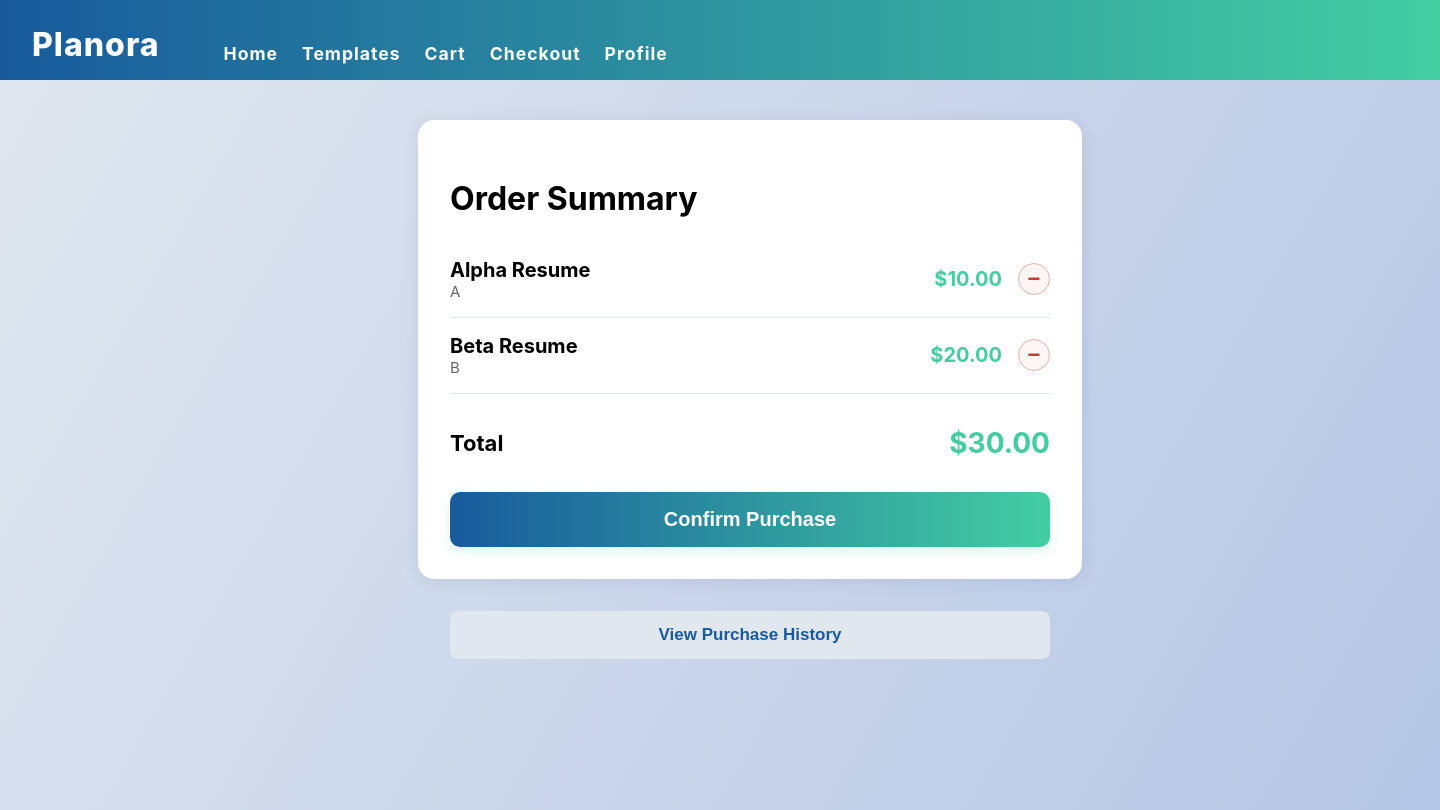
Test: minus removes only that item from the order
Expected: the text "Alpha Resume" is shown, x1=450 y1=258 x2=590 y2=282
Expected: the text "Beta Resume" is shown, x1=450 y1=334 x2=578 y2=358
Click the button named "Remove Alpha Resume from this order" at (1034, 279), box x1=1018 y1=263 x2=1050 y2=295
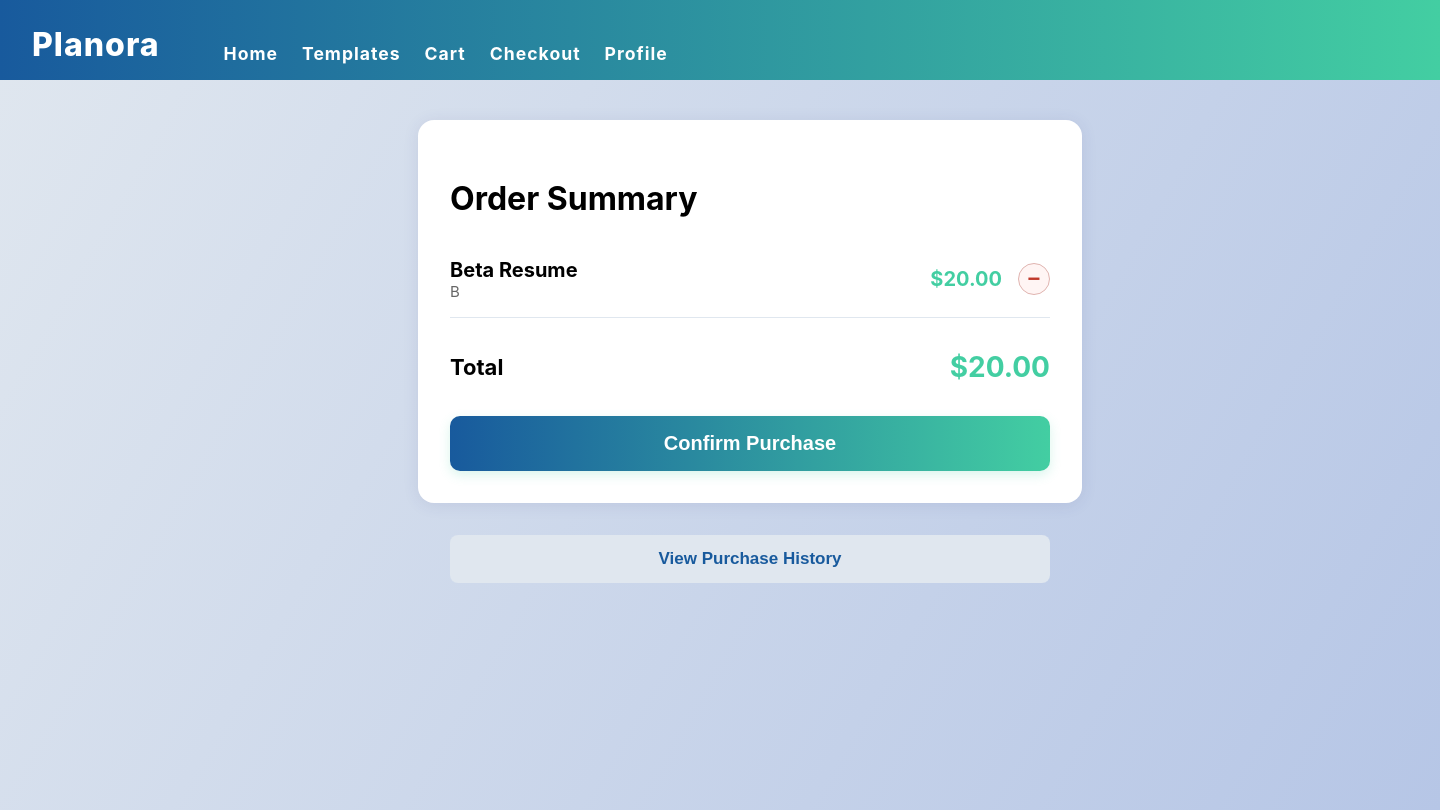
Expected: the text "Beta Resume" is shown, x1=450 y1=258 x2=578 y2=282
Now the text "Alpha Resume" is gone
